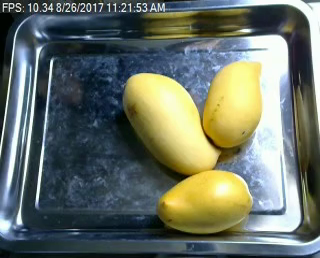Mango: (124, 72, 222, 174), (153, 171, 253, 236), (201, 62, 263, 145)
